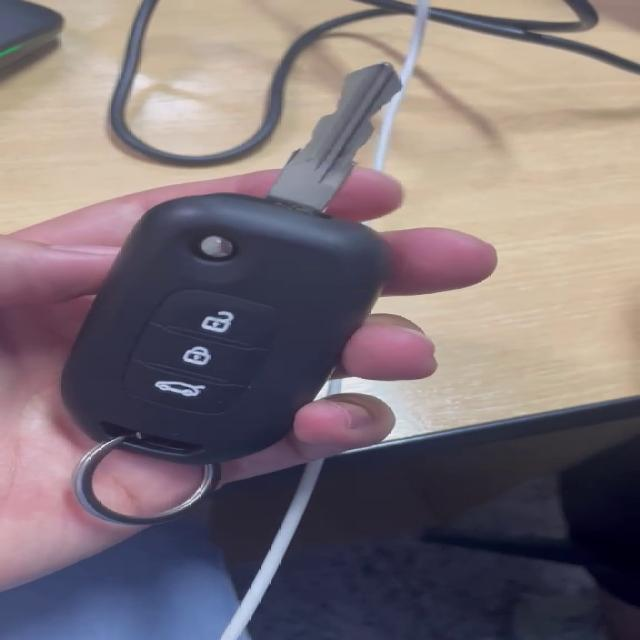llave-auto: (102, 71, 440, 558)
